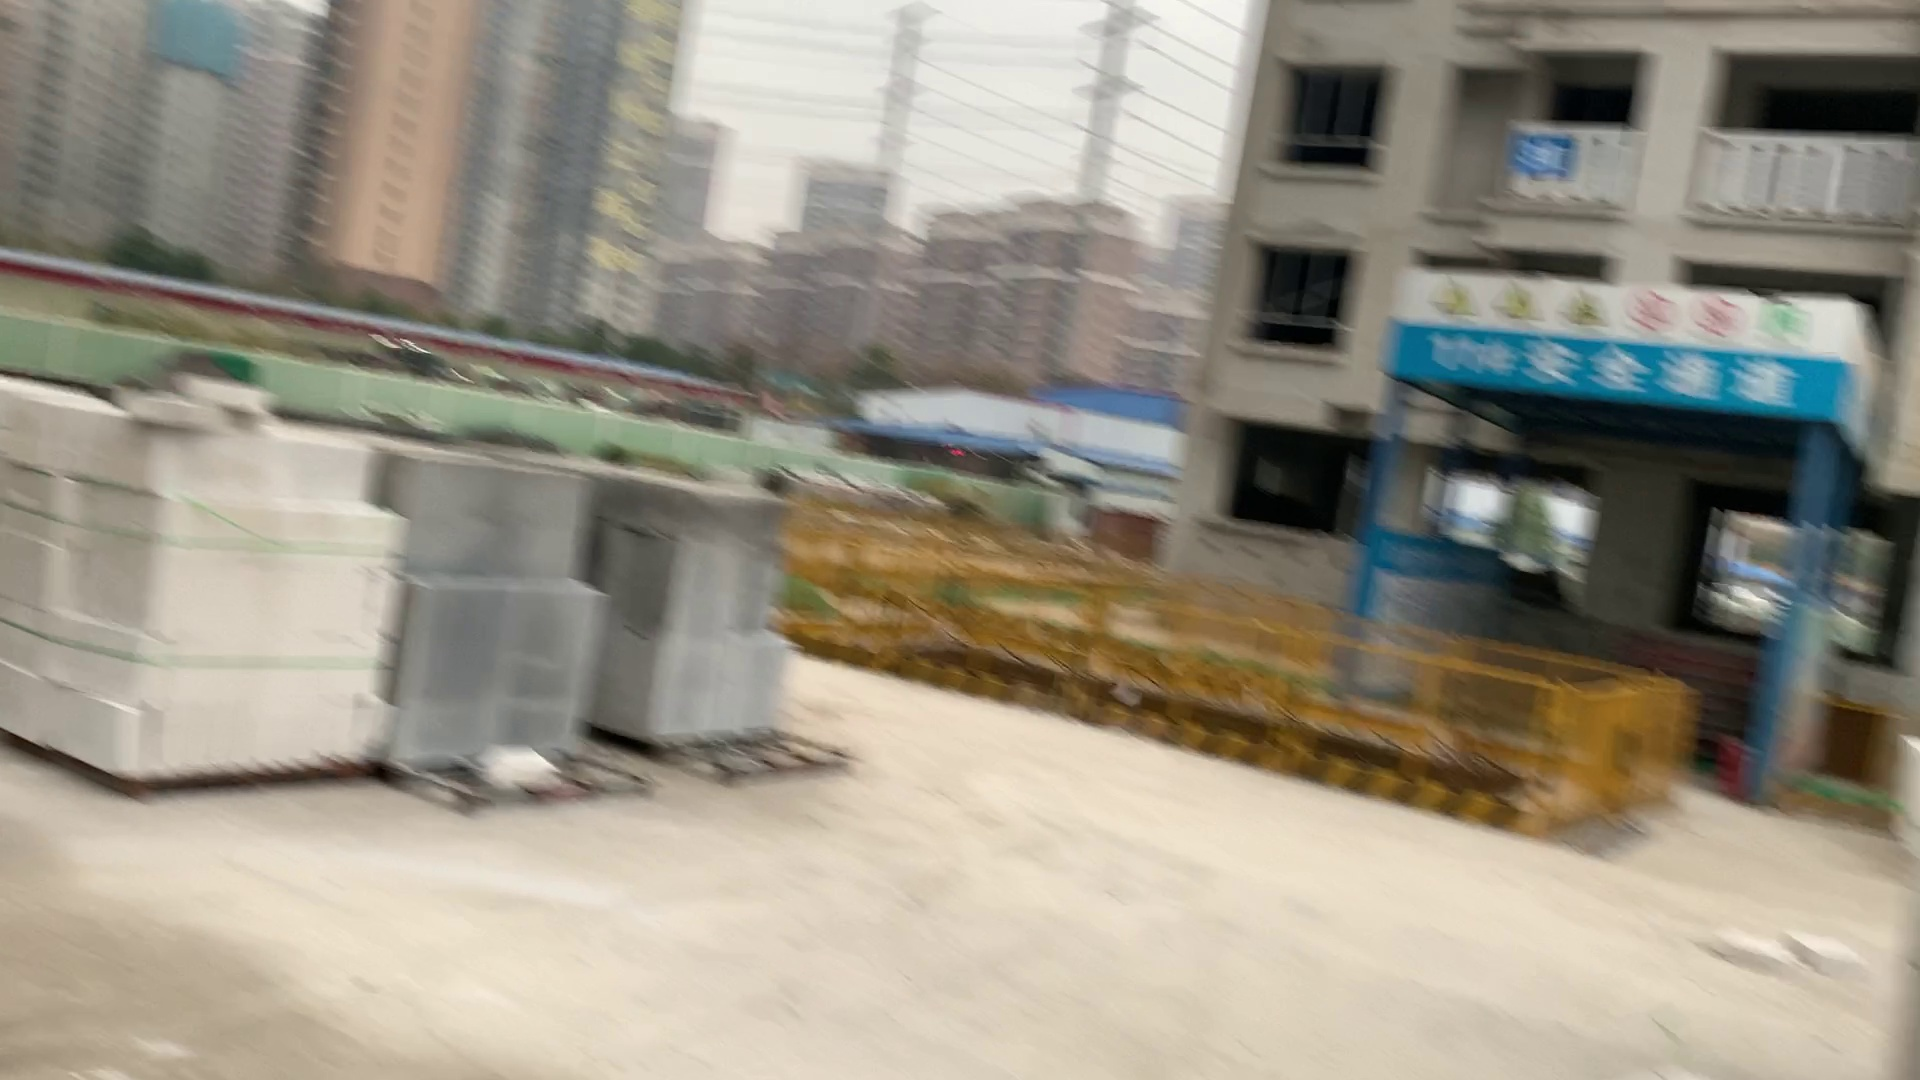brickwork: (7, 388, 388, 777), (392, 454, 595, 760), (618, 483, 791, 741)
